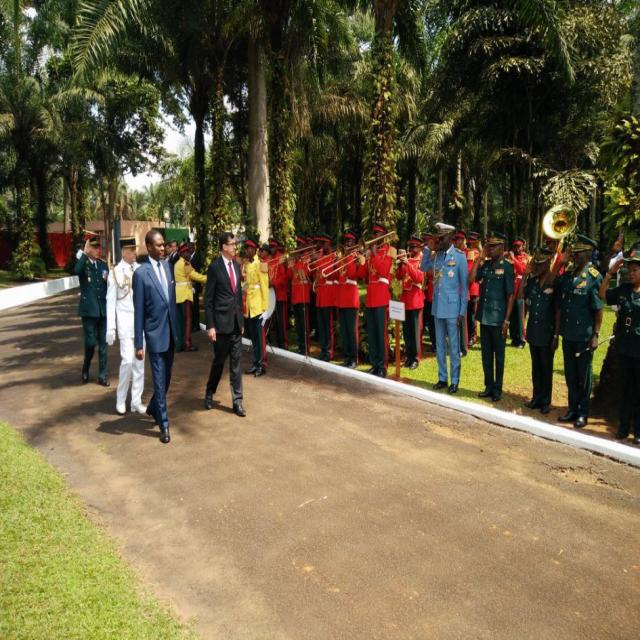body: (544, 231, 606, 431), (130, 228, 176, 443), (418, 220, 469, 397), (466, 230, 517, 404), (201, 230, 247, 419), (103, 234, 150, 415), (598, 248, 640, 445), (514, 244, 562, 416), (352, 220, 398, 379), (72, 232, 110, 386), (332, 228, 367, 370), (394, 233, 428, 371), (239, 235, 270, 380), (173, 241, 208, 352), (309, 230, 336, 364), (503, 235, 532, 349), (286, 232, 311, 357), (451, 228, 475, 358), (265, 238, 290, 351), (419, 231, 438, 353), (463, 234, 480, 347), (601, 230, 622, 284), (544, 235, 565, 276), (459, 224, 489, 246), (168, 239, 180, 265), (302, 235, 320, 252), (179, 236, 194, 256), (73, 241, 85, 265), (238, 248, 247, 279), (260, 242, 270, 257), (277, 240, 285, 256), (164, 241, 171, 255), (521, 238, 527, 253)
